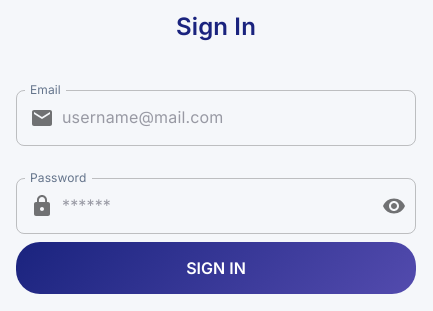
Scenario: LoginForm Component › Form Submission - Success › should show loading state during submission
Type "q@quantum.io" into the field labelled "Email". click: (239, 118)
box: [62,90,416,146]
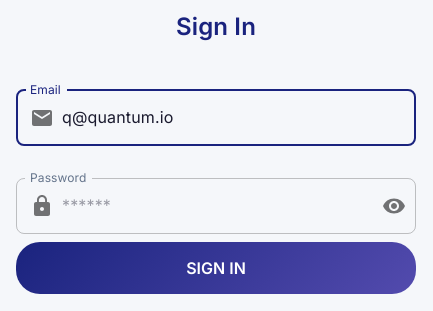
Type "qTask123#" into the password field with placeholder "******". click: (214, 206)
box: [62,178,366,234]
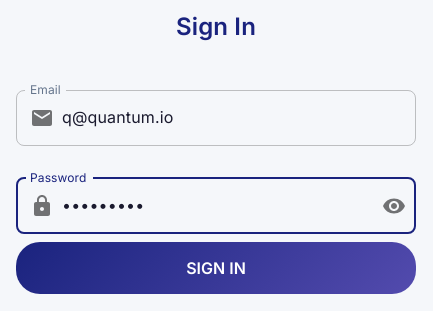
Click the button "Sign In". click: (216, 268)
box: [16,242,416,294]
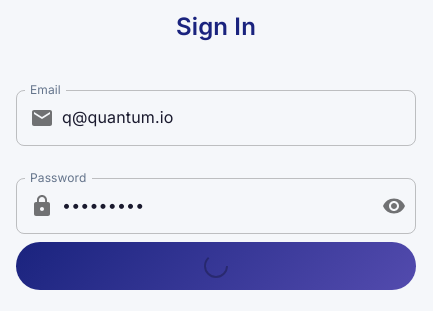
expect the progress indicator is shown: met, box [204,254,228,278]
